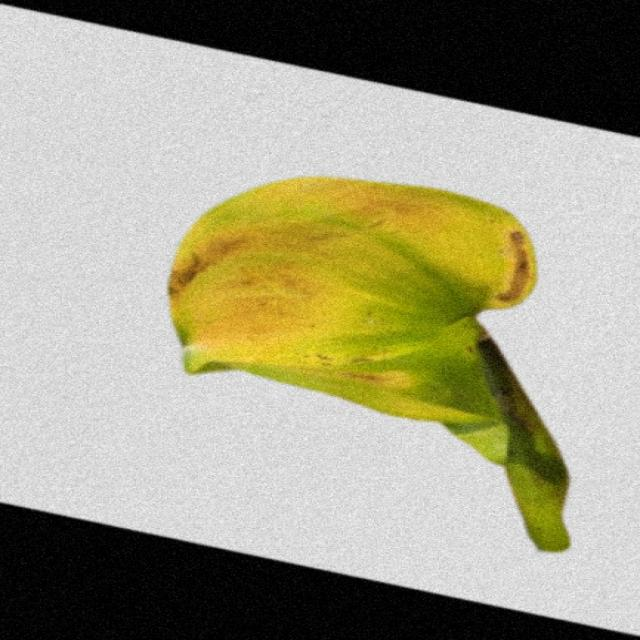daun berpenyakit kuning: (168, 178, 570, 551)
